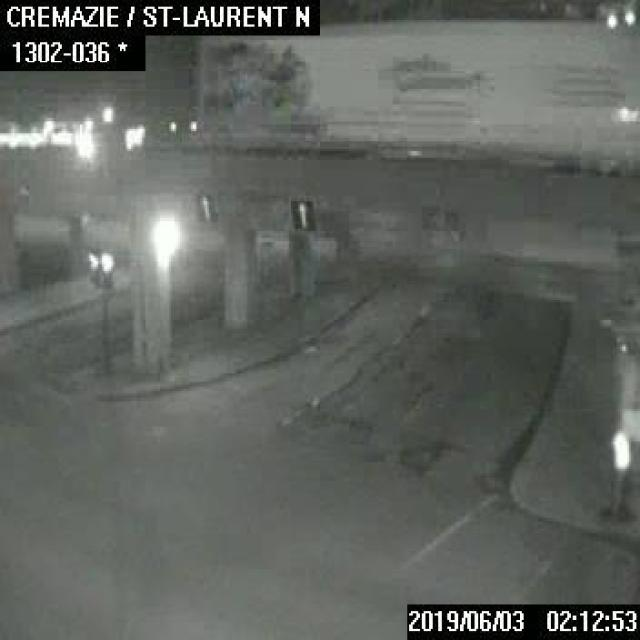vehicle: (191, 16, 638, 156), (620, 169, 638, 178)
